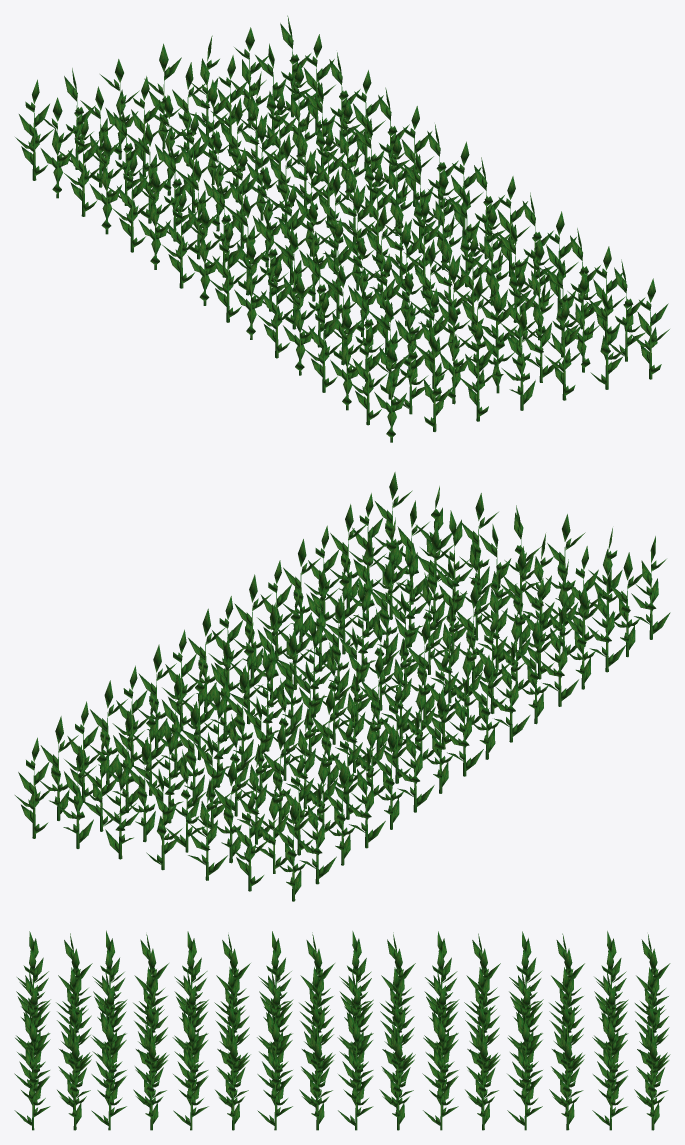
The model's file is Corn_WetLands.fbx.
3 renders of one model, top to bottom at view 1: azimuth 30°, elevation 25°; view 2: azimuth 150°, elevation 25°; view 3: azimuth 270°, elevation 25°, orthographic. The views are drawn at different scales.
Parts seen in each view (by area): view 1: WetLand_Corn; view 2: WetLand_Corn; view 3: WetLand_Corn.
Part boxes in pixels (x1,y1,x2,y2): WetLand_Corn: (15, 15, 669, 442); WetLand_Corn: (15, 472, 670, 901); WetLand_Corn: (14, 930, 670, 1130).
Bounding box in the file's own units: 1031 × 344 × 2297.
